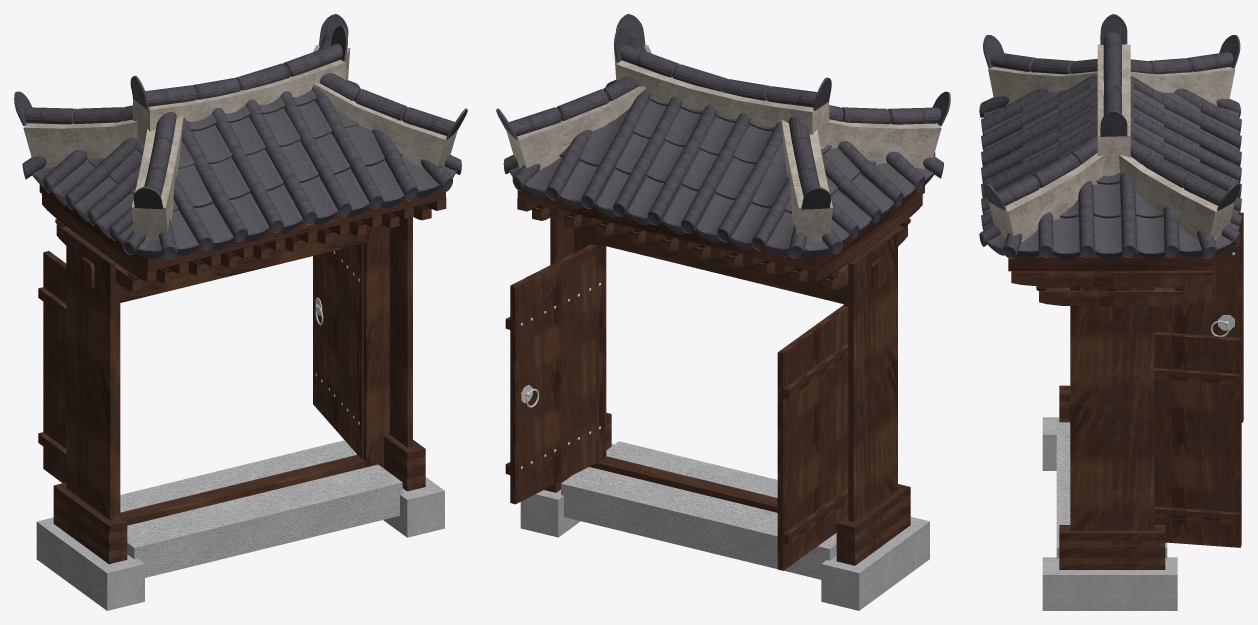
The model's file is SM_Smallgate_4.fbx.
The picture shows the model from 3 angles, left to right: view 1: azimuth 30°, elevation 25°; view 2: azimuth 150°, elevation 25°; view 3: azimuth 270°, elevation 25°; orthographic projection. The views are drawn at different scales.
Parts seen in each view (by area): view 1: SM_Smallgate_4; view 2: SM_Smallgate_4; view 3: SM_Smallgate_4.
Part boxes in pixels (<box>): SM_Smallgate_4: <box>14,14,467,610</box>; SM_Smallgate_4: <box>496,14,950,610</box>; SM_Smallgate_4: <box>979,14,1243,610</box>.
Bounding box in the file's own units: 376 × 266 × 522.
